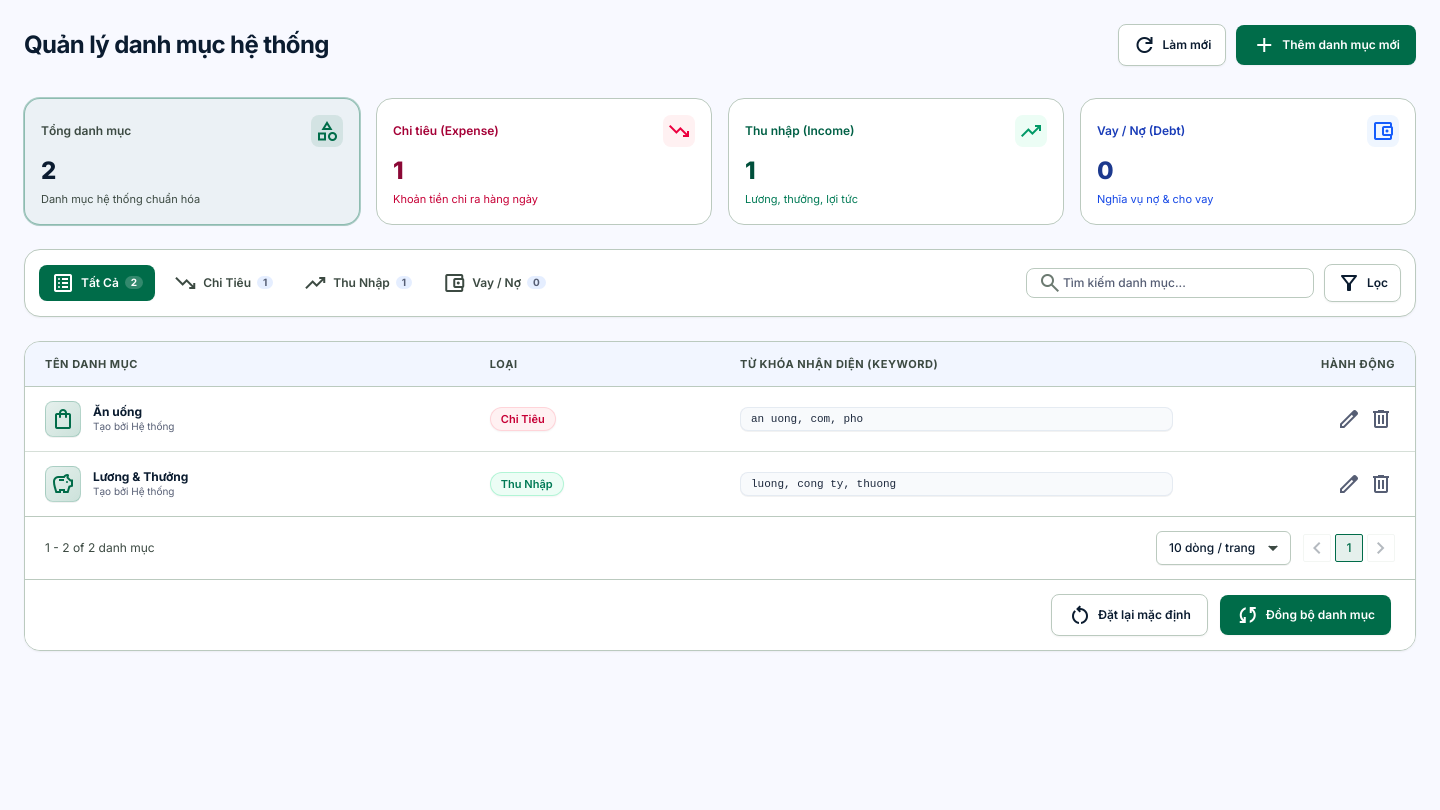
Scenario: CategoryPage Refinements & 2-Tier Testing Suite › 🧱 TẦNG 1: UI Rendering & Clean Header / Modals Verification › 1.3. Modal Xóa: Chỉ hiển thị 1 dòng xác nhận và 2 nút Hủy, Xác nhận xóa (bỏ khung soft delete)
This screenshot has width=1440, height=810.
Expected: the text "Ăn uống" is shown, x1=93 y1=404 x2=142 y2=420
Note: Bấm nút xóa trên dòng Ăn uống
Click the button titled "Xóa danh mục hệ thống" in the row of "Ăn uống": (1381, 419) x1=1367 y1=405 x2=1395 y2=433
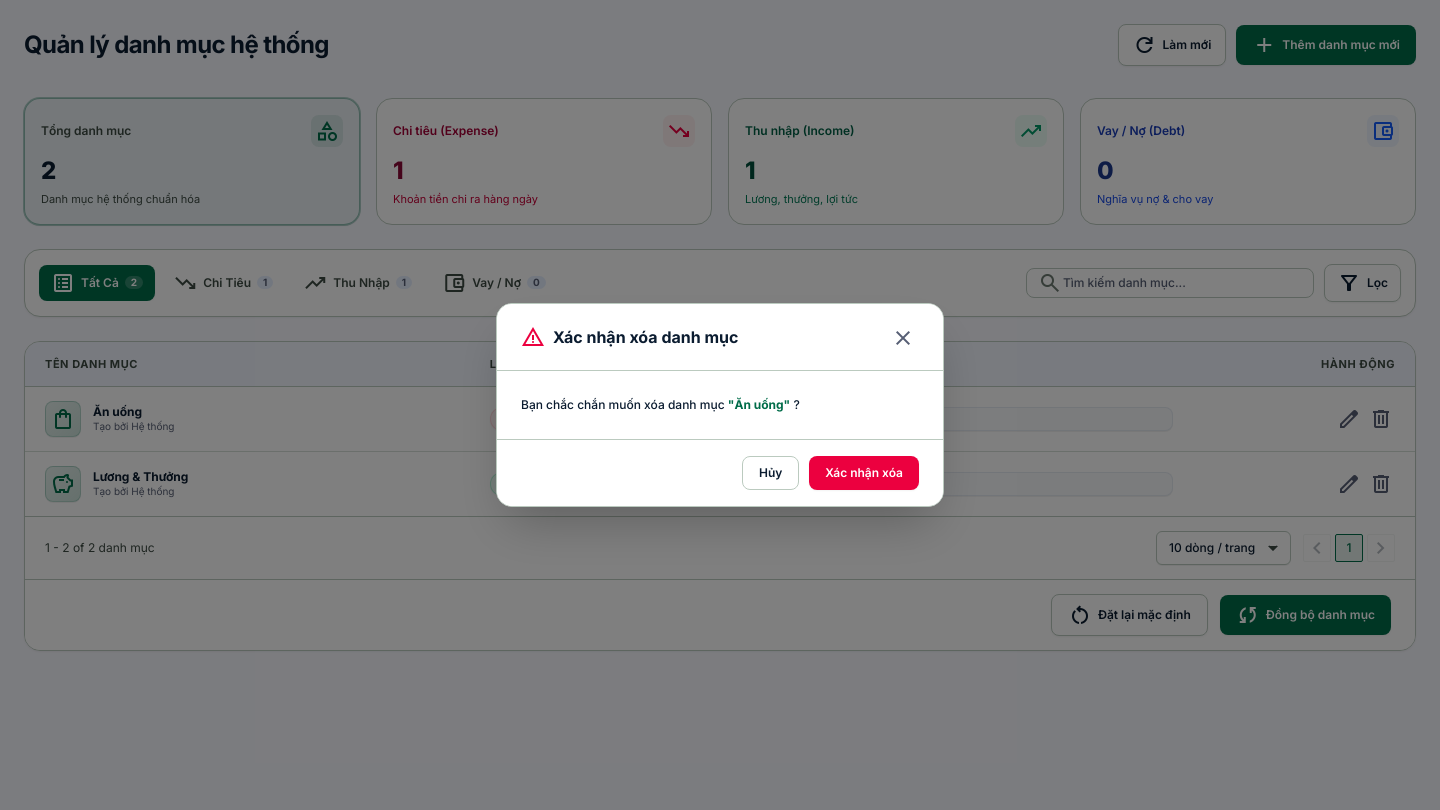
Now the text "Bạn chắc chắn muốn xóa danh mục \"Ăn uống\" ?" is shown, box x1=521 y1=397 x2=800 y2=412
Now the text "\"Ăn uống\"" is shown, box x1=728 y1=397 x2=790 y2=412
Now the button "Hủy" is shown, box x1=742 y1=456 x2=799 y2=490
